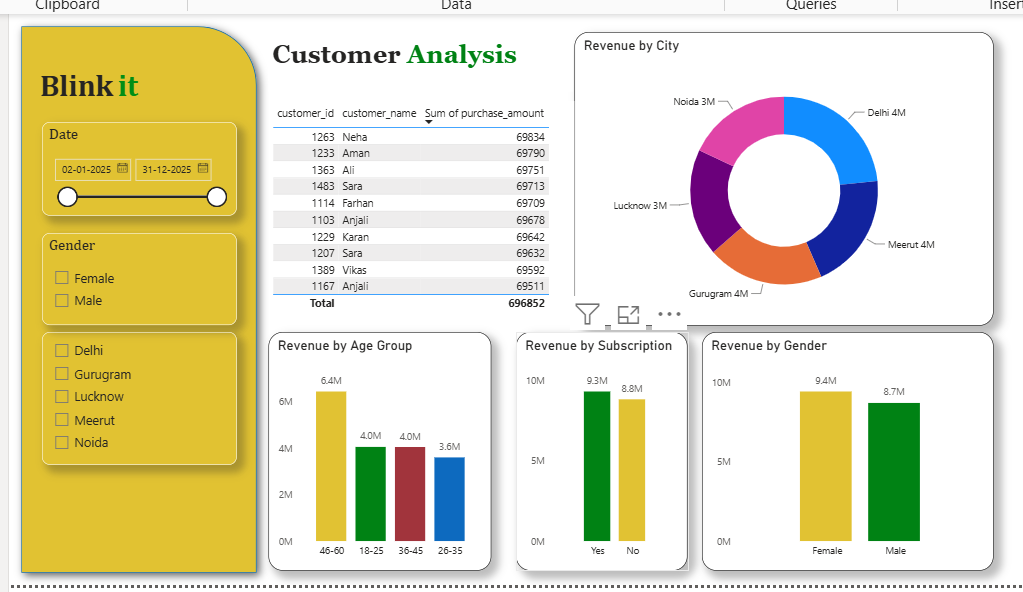

Layout of this report page (visuals, bound fields, positions):
{"tool":"powerbi","page":{"name":"Page 2","canvas":[1280,720],"ordinal":1},"visuals":[{"type":"donutChart","title":"Revenue by City","fields":{"Category":["blinkit_clean_customer_behaviour.city"],"Y":["Sum(blinkit_clean_customer_behaviour.purchase_amount)"]},"box":[712.8,22.3,527.9,369.8],"z":0},{"type":"columnChart","title":"Revenue by Age Group","fields":{"Y":["Sum(blinkit_clean_customer_behaviour.purchase_amount)"],"Category":["blinkit_clean_customer_behaviour.age_group"]},"box":[327.4,400.9,280.7,300.7],"z":1000},{"type":"columnChart","title":"Revenue by Gender","fields":{"Y":["Sum(blinkit_clean_customer_behaviour.purchase_amount)"],"Category":["blinkit_clean_customer_behaviour.gender"]},"box":[873.1,400.9,367.5,300.7],"z":2000},{"type":"columnChart","title":"Revenue by Subscription","fields":{"Y":["Sum(blinkit_clean_customer_behaviour.purchase_amount)"],"Category":["blinkit_clean_customer_behaviour.subscription"]},"box":[639.3,400.9,216.1,300.7],"z":3000},{"type":"tableEx","fields":{"Values":["blinkit_clean_customer_behaviour.customer_id","blinkit_clean_customer_behaviour.customer_name","Sum(blinkit_clean_customer_behaviour.purchase_amount)"]},"box":[327.4,109.1,385.3,282.9],"z":4000},{"type":"shape","box":[0,0,327.4,719.5],"z":5000},{"type":"textbox","box":[33.4,62.4,131.4,57.9],"z":6000},{"type":"textbox","box":[131.4,62.4,84.6,57.9],"z":7000},{"type":"slicer","title":"Date","fields":{"Values":["blinkit_clean_customer_behaviour.purchase_date"]},"box":[42.3,135.9,245,118.1],"z":8000},{"type":"slicer","title":"Gender","fields":{"Values":["blinkit_clean_customer_behaviour.gender"]},"box":[42.3,276.2,245,115.8],"z":9000},{"type":"slicer","fields":{"Values":["blinkit_clean_customer_behaviour.city"]},"box":[42.3,400.9,245,167.1],"z":10000},{"type":"textbox","box":[327.4,26.7,383.1,71.3],"z":11000}]}

Visuals, with their boxes on the page's 1280x720 design canvas (x1, y1, x2, y2). These are canvas units, not pixel positions in the 1023x592 screenshot, which may show the page scaled, cropped or inside an application window:
"Revenue by City" donutChart: <region>713, 22, 1241, 392</region>
"Revenue by Age Group" columnChart: <region>327, 401, 608, 702</region>
"Revenue by Gender" columnChart: <region>873, 401, 1241, 702</region>
"Revenue by Subscription" columnChart: <region>639, 401, 855, 702</region>
tableEx - blinkit_clean_customer_behaviour.customer_id x blinkit_clean_customer_behaviour.customer_name: <region>327, 109, 713, 392</region>
shape: <region>0, 0, 327, 720</region>
textbox: <region>33, 62, 165, 120</region>
textbox: <region>131, 62, 216, 120</region>
"Date" slicer: <region>42, 136, 287, 254</region>
"Gender" slicer: <region>42, 276, 287, 392</region>
slicer - blinkit_clean_customer_behaviour.city: <region>42, 401, 287, 568</region>
textbox: <region>327, 27, 710, 98</region>
